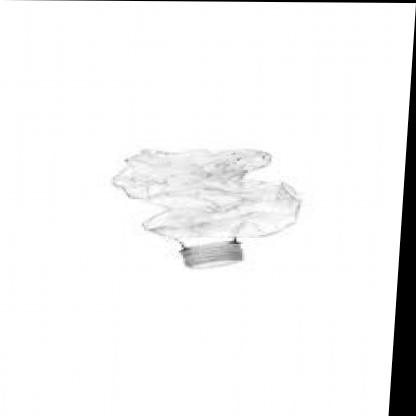trash: (112, 149, 300, 266)
